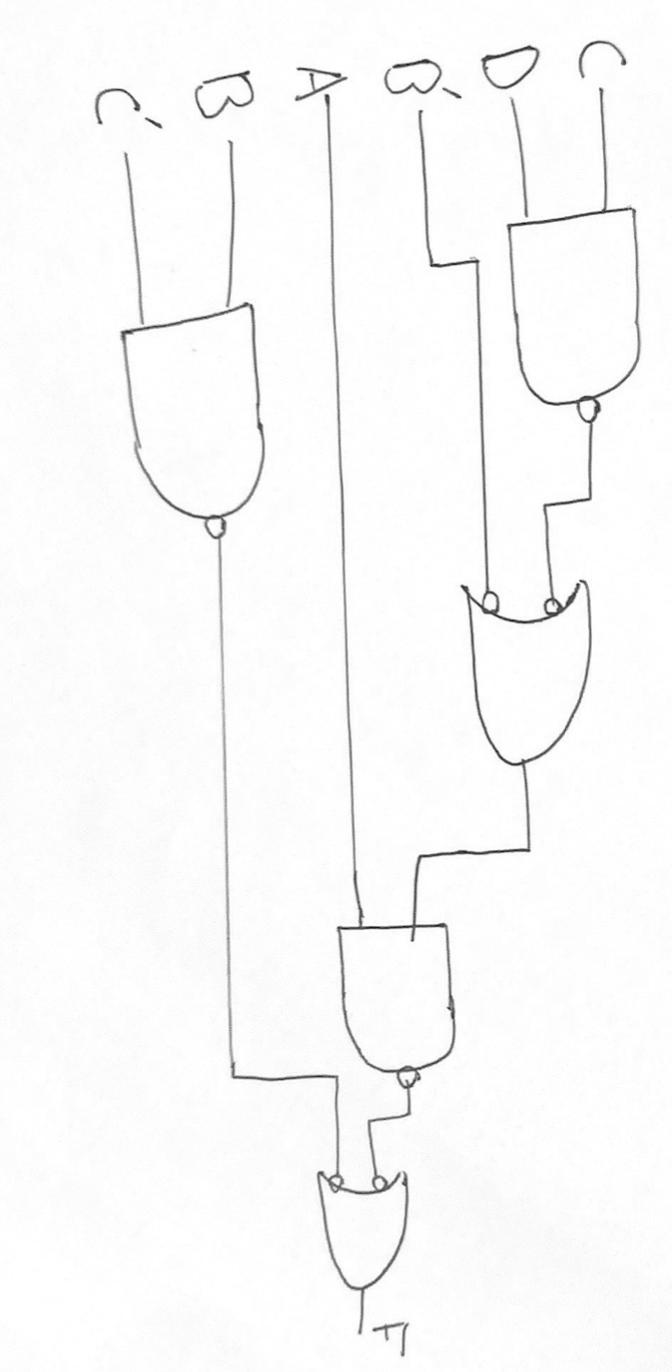NAND: (92, 305, 315, 561), (490, 202, 663, 417), (334, 910, 493, 1092)
OR: (440, 557, 622, 787), (292, 1172, 444, 1306)
